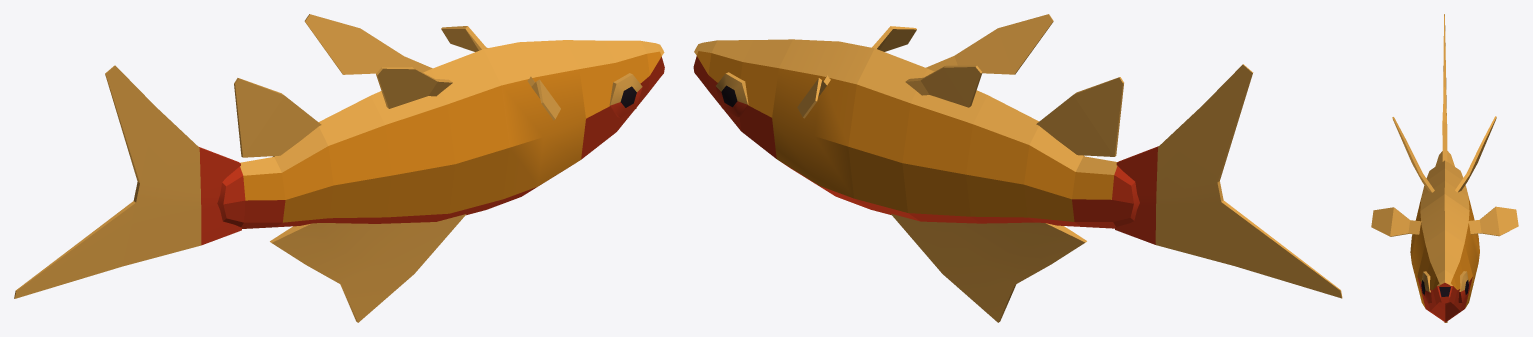
Rendered from fish_1.glb.
3 renders of one model, left to right at view 1: azimuth 30°, elevation 25°; view 2: azimuth 150°, elevation 25°; view 3: azimuth 270°, elevation 25°, orthographic. The views are drawn at different scales.
Visible parts, largest first — view 1: Geo_Goldfish.001; view 2: Geo_Goldfish.001; view 3: Geo_Goldfish.001.
Boxes of the visible parts, bbox=[...] form: Geo_Goldfish.001: bbox=[14, 14, 664, 322]; Geo_Goldfish.001: bbox=[693, 14, 1342, 322]; Geo_Goldfish.001: bbox=[1371, 14, 1518, 322].
Bounding box in the file's own units: 0.9539 × 0.4467 × 0.2655.
Materials: 1 (1 with a texture image).
